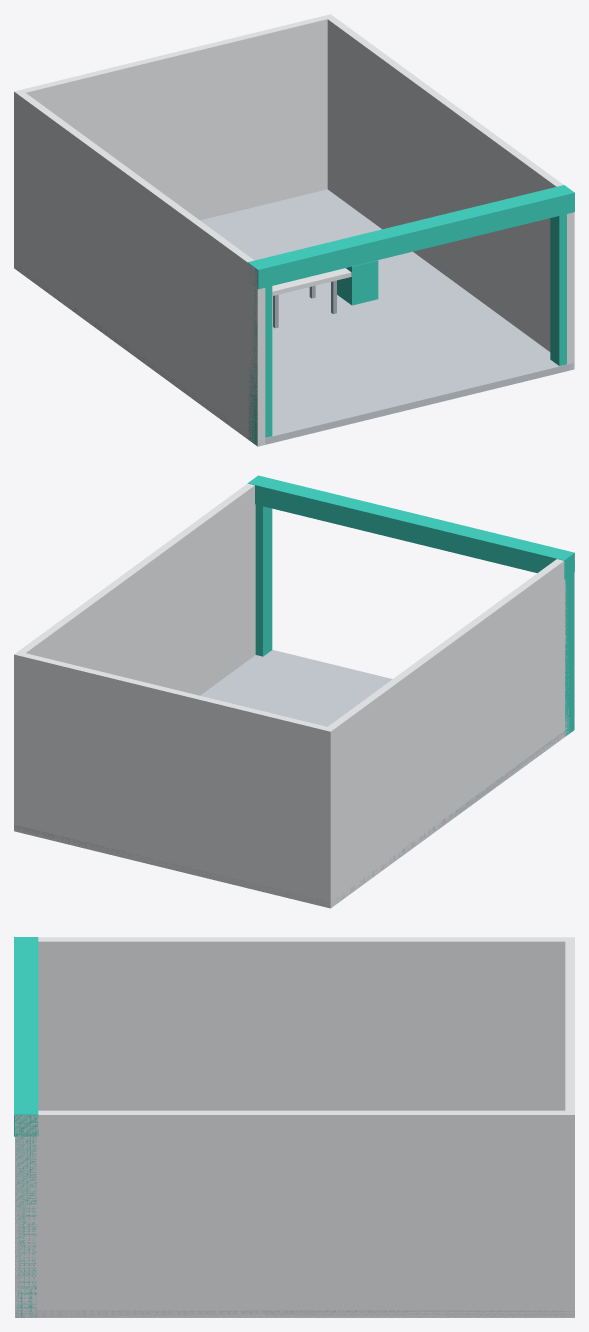
The picture shows the model from 3 angles, top to bottom: view 1: azimuth 30°, elevation 25°; view 2: azimuth 150°, elevation 25°; view 3: azimuth 270°, elevation 25°; orthographic projection. The views are drawn at different scales.
Visible parts, largest first — view 1: Exhibition Booth Concept; view 2: Exhibition Booth Concept; view 3: Exhibition Booth Concept.
Boxes of the visible parts, x1,y1,x2,y2 form: Exhibition Booth Concept: (14, 14, 574, 446); Exhibition Booth Concept: (14, 475, 574, 908); Exhibition Booth Concept: (14, 937, 574, 1317).
Size of the model in its own units: 6 by 3.2 by 8.01.
